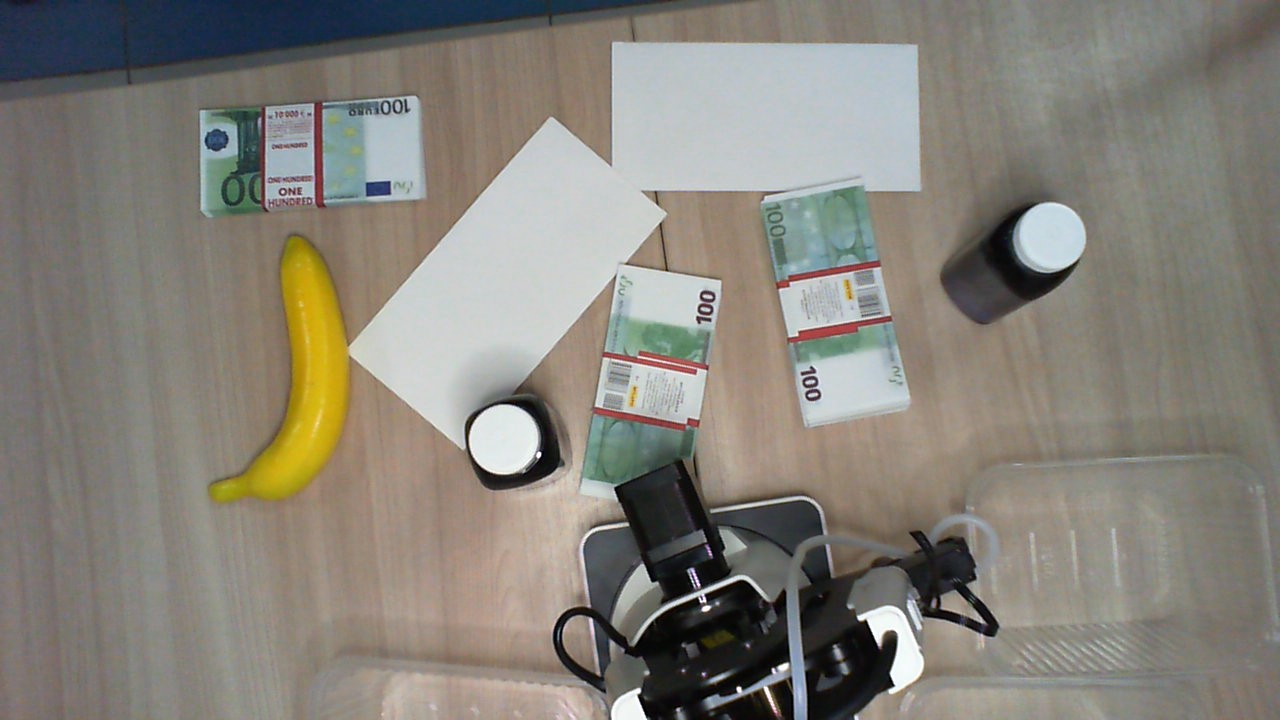banana: (207, 234, 353, 509)
bottle: (993, 194, 1090, 292), (463, 395, 555, 490)
convert: (346, 114, 668, 450), (613, 44, 921, 191)
money: (577, 261, 723, 506), (771, 178, 908, 426), (199, 91, 427, 217)
